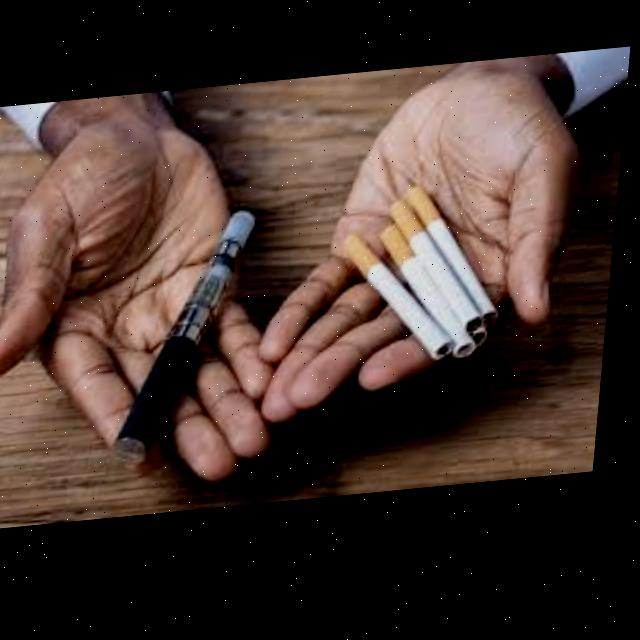cigarette: (346, 240, 462, 368), (407, 194, 505, 337), (385, 232, 483, 367), (392, 208, 488, 342)
vape: (116, 213, 263, 476)
